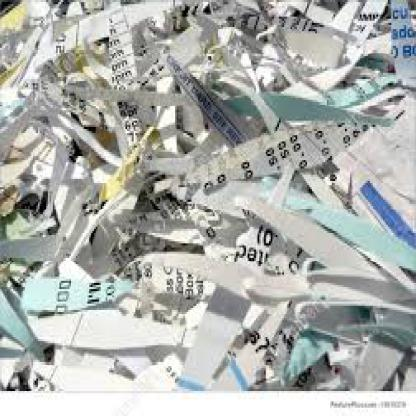paper: (0, 0, 415, 390)
